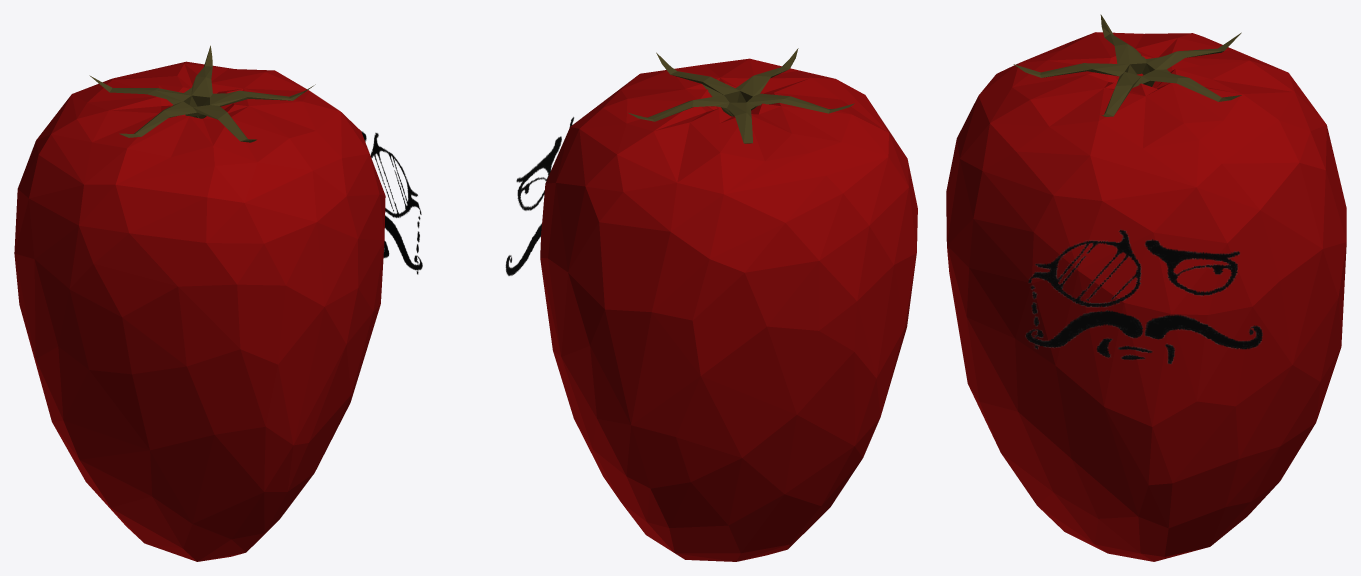
Rendered from Long Tomato-Smug Monocle.glb.
The picture shows the model from 3 angles, left to right: view 1: azimuth 30°, elevation 25°; view 2: azimuth 150°, elevation 25°; view 3: azimuth 270°, elevation 25°; orthographic projection. The views are drawn at different scales.
Visible parts, largest first — view 1: Long_Tomato; view 2: Long_Tomato; view 3: Long_Tomato.
Part boxes in pixels (x1,y1,x2,y2): Long_Tomato: [14, 45, 422, 561]; Long_Tomato: [505, 48, 917, 561]; Long_Tomato: [946, 14, 1346, 561].
Size of what is drawn, in the model's own units: 1.13 by 1.49 by 1.12.
3 materials, 1 textured.
